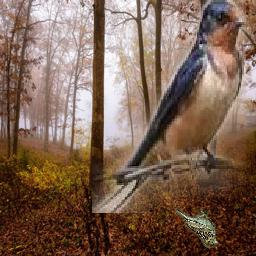Sparrow: (176, 208, 219, 248)
Swallow: (92, 0, 246, 213)
